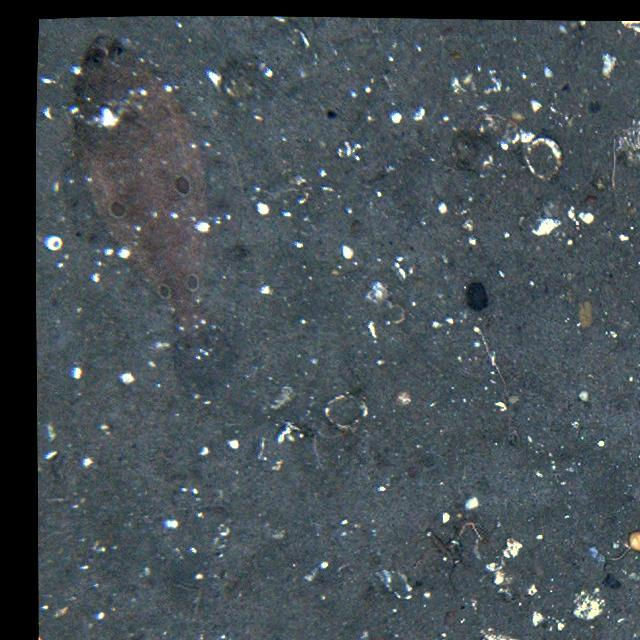flatfish: (70, 32, 255, 386)
